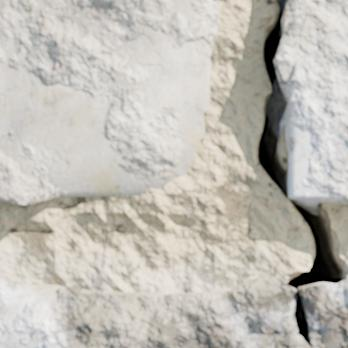brick: (0, 0, 220, 204), (275, 0, 347, 203)
broken_brick: (0, 272, 347, 347)
crack: (255, 0, 347, 345)
